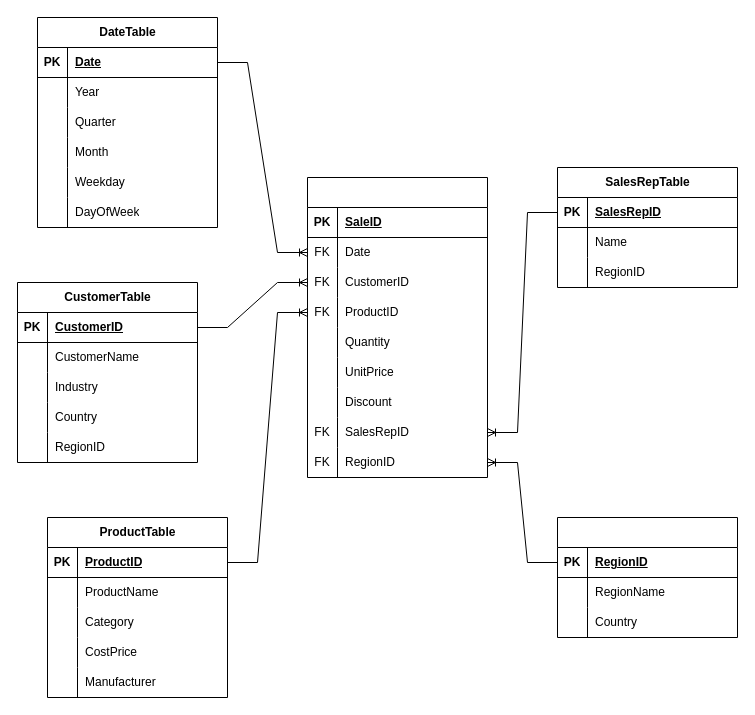
This 755x715 diagram has some shape labels left out. The shapes that lost their labels are listed below. From the top down, each one's box as (x1, y1, x2, y2) in pixels, then its label:
(306, 176, 488, 478): SalesTable
(556, 516, 738, 638): RegionTable
